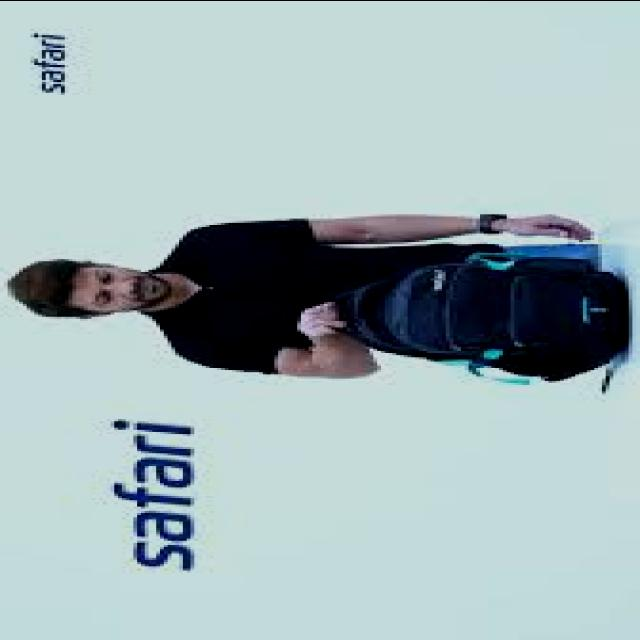backpack: (332, 253, 626, 385)
